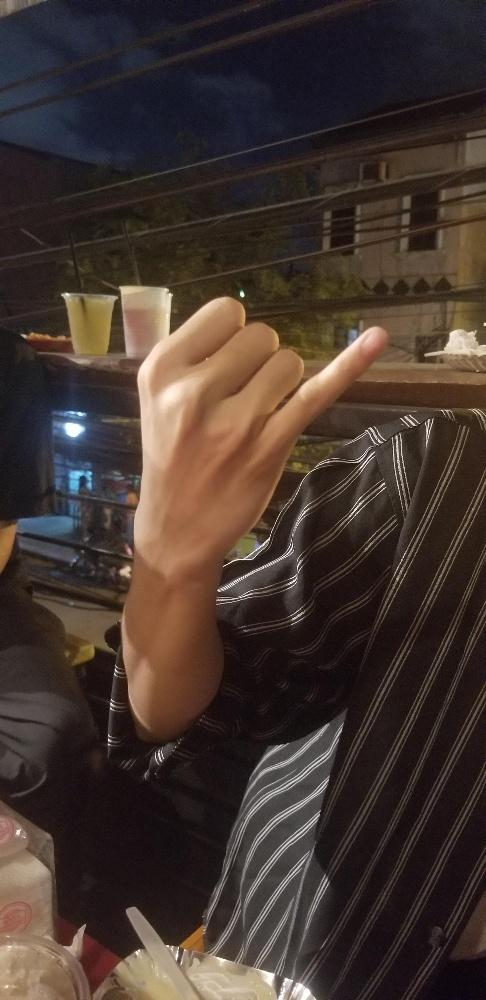j: (132, 285, 385, 543)
